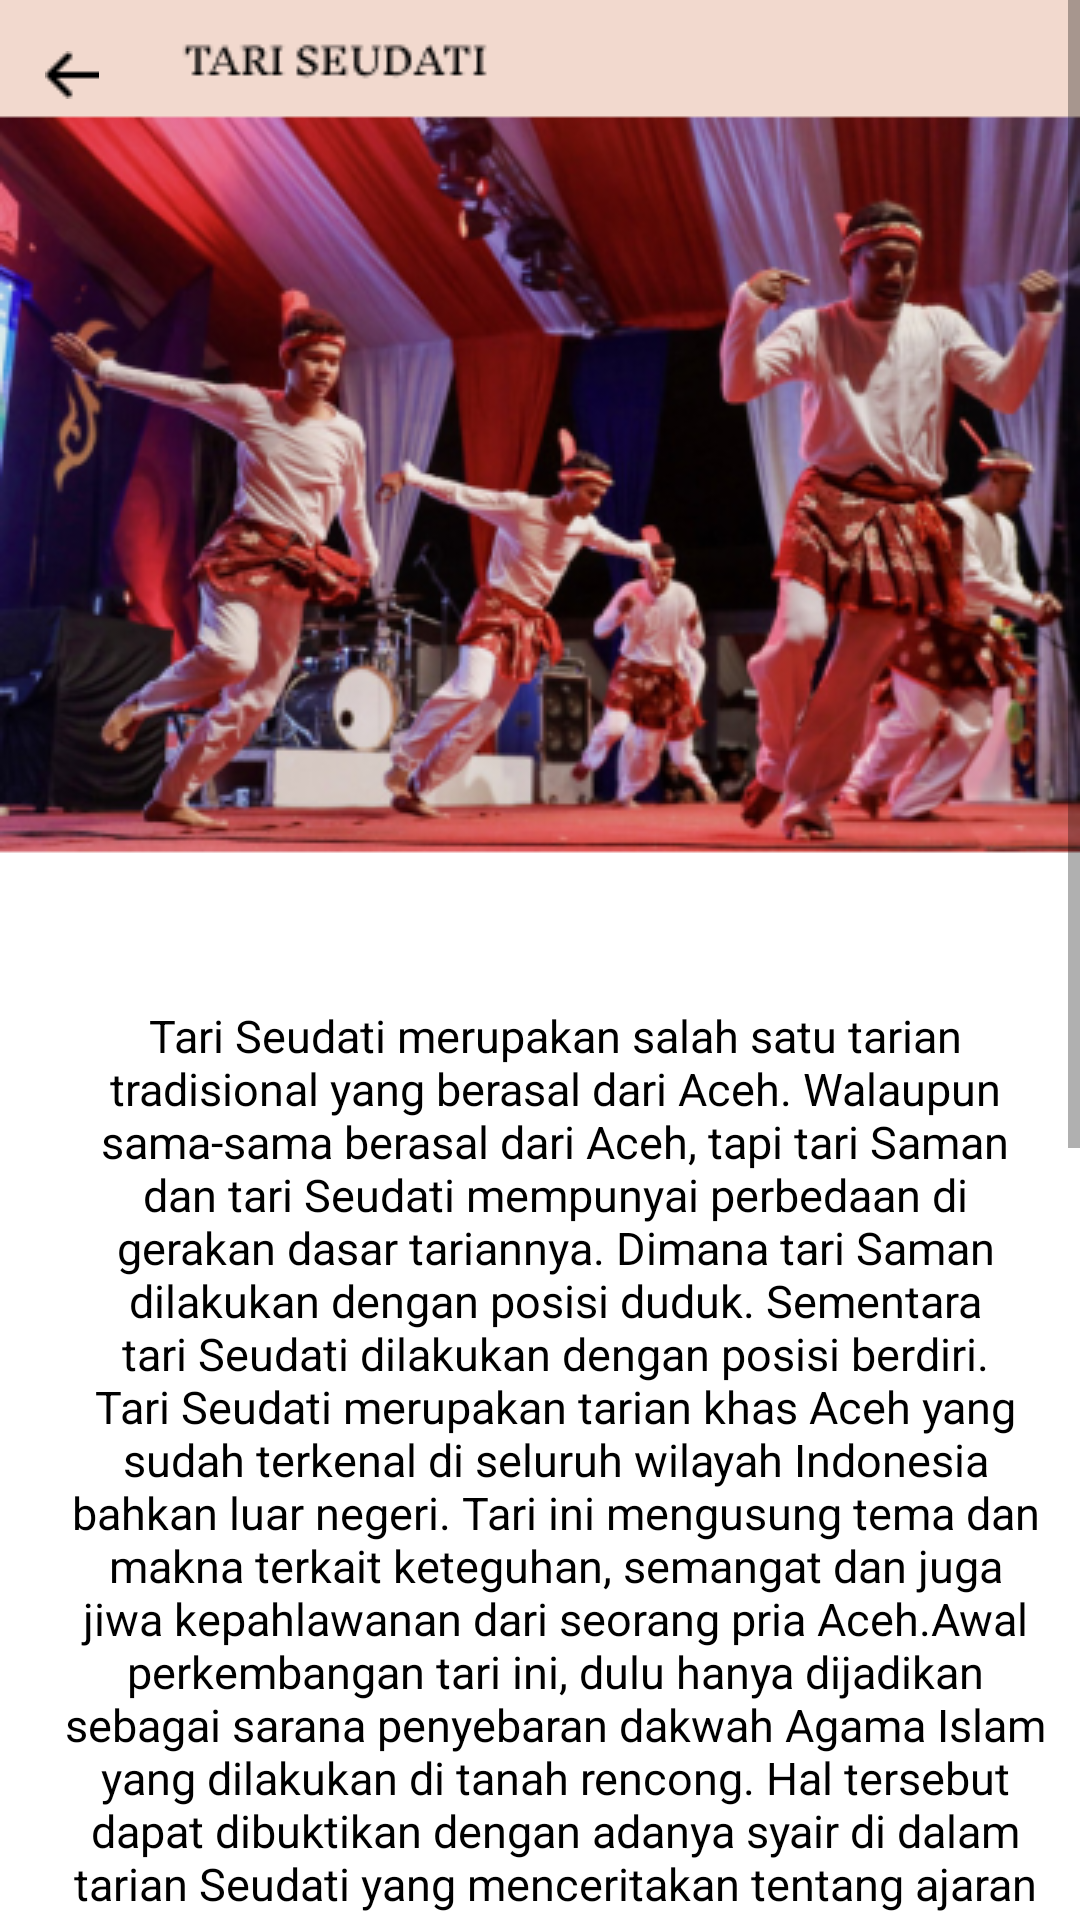

Icons on this 1080px×1920px Android screen, each with its box as (x1, y1, x2, y2):
back: (45, 51, 99, 135)
